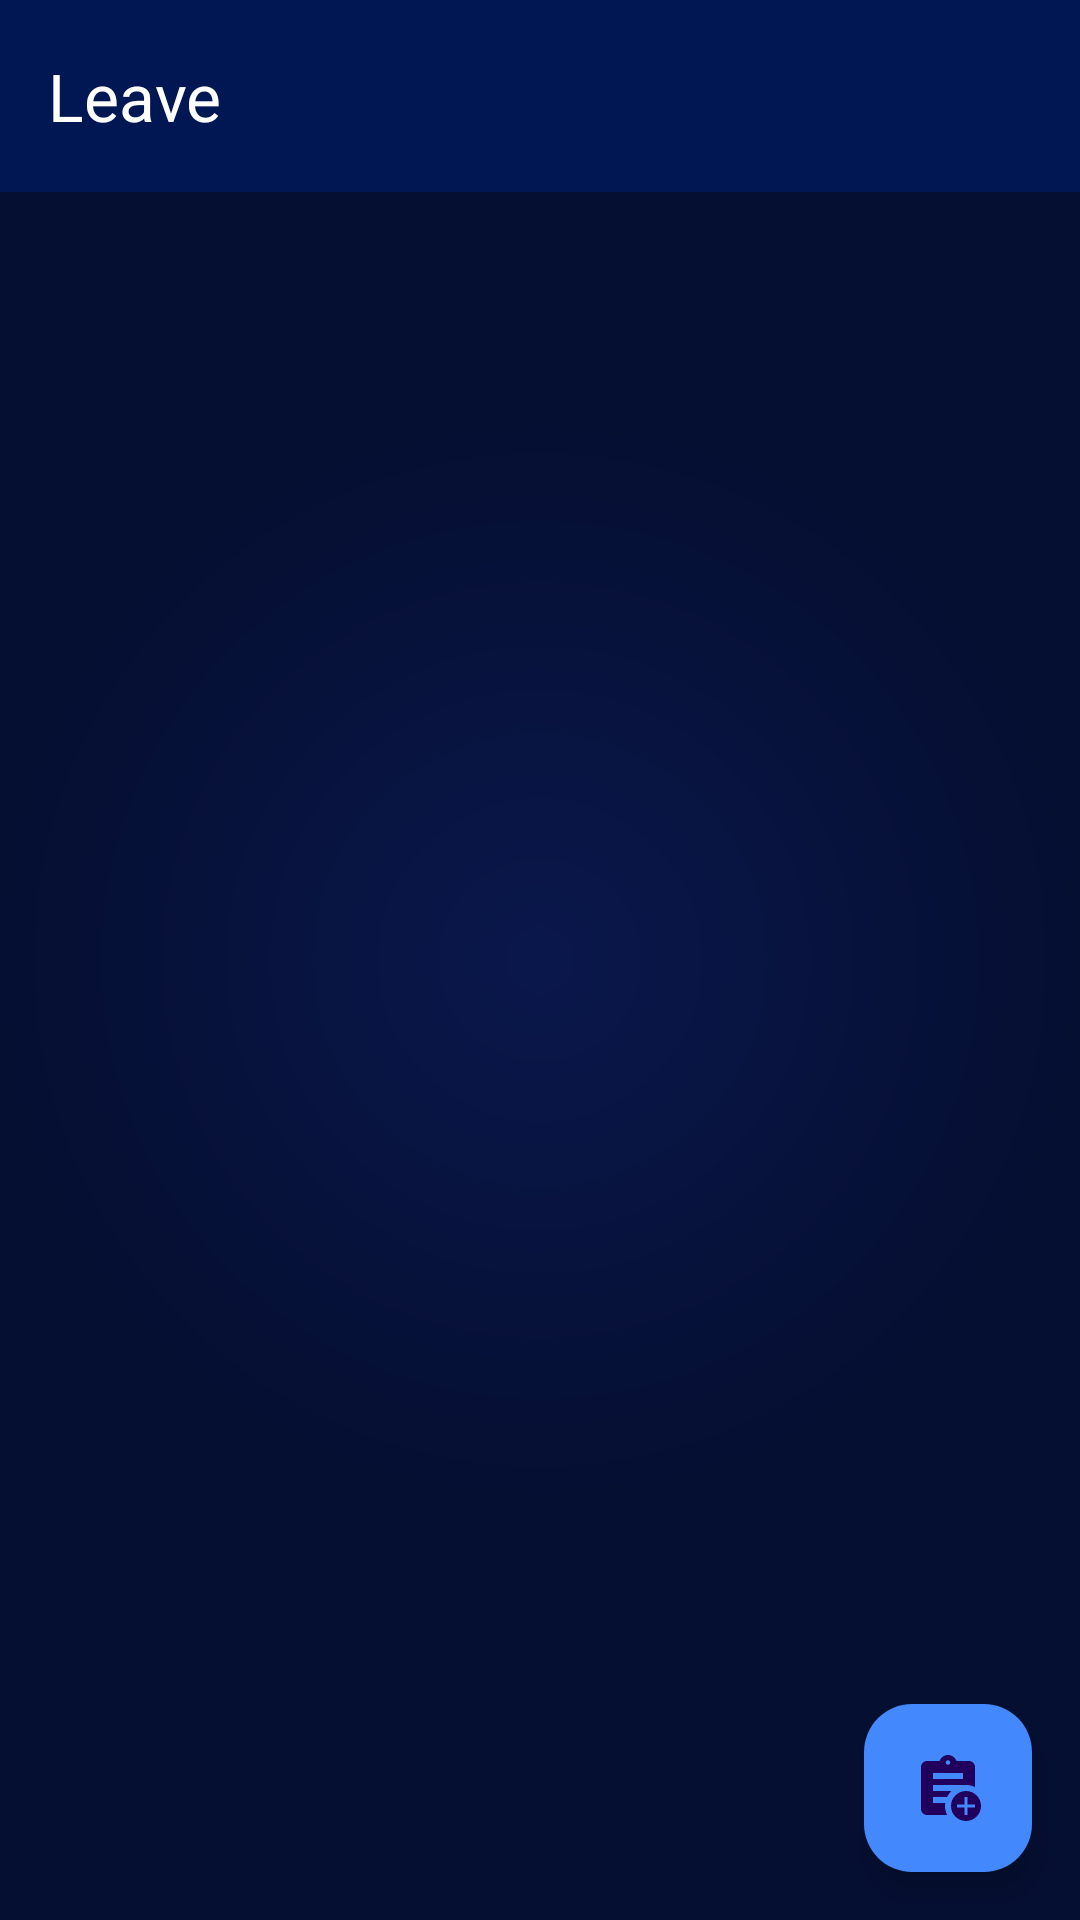

Icon bounding boxes for this 1080x1920 phone screenshot, format (x1, y1, x2, y2):
add form: (864, 1704, 1032, 1872)
